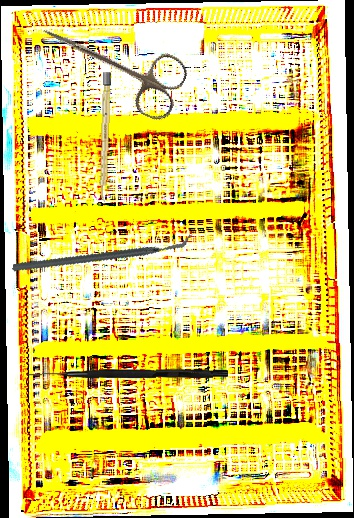Chopper: (11, 189, 193, 317)
Hook Surgical: (26, 367, 229, 381)
Iris Scissors: (29, 3, 192, 125)
Scalpel Handle: (98, 71, 112, 203)
